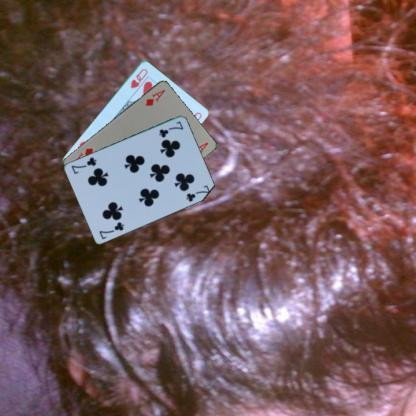7c: (96, 218, 126, 240), (156, 118, 184, 139)
Ad: (142, 86, 166, 108)
Qh: (127, 66, 150, 90)
